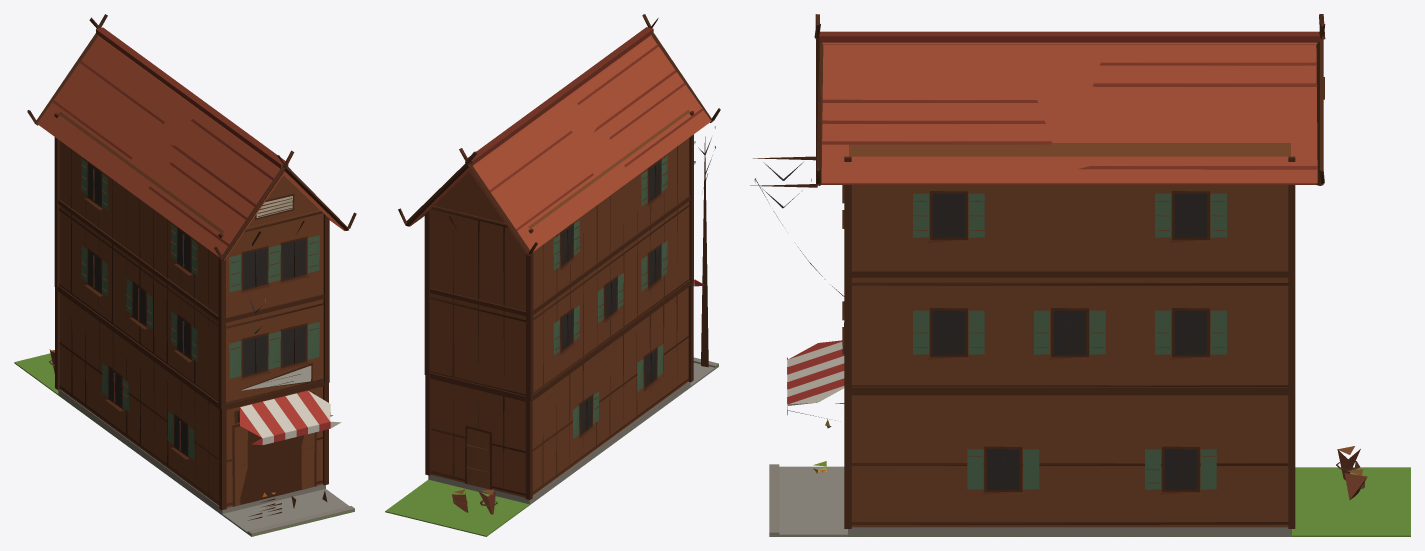
The model's file is bay2_one.glb.
3 views of the same model, side by side, from view 1: azimuth 30°, elevation 25°; view 2: azimuth 150°, elevation 25°; view 3: azimuth 270°, elevation 25° (orthographic). The views are drawn at different scales.
Visible parts, largest first — view 1: body, windows; view 2: body, windows; view 3: body, windows.
Part boxes in pixels (x1,y1,x2,y2): body: (14,14,356,536); windows: (88,164,330,454); body: (385,14,720,536); windows: (561,161,660,433); body: (750,14,1410,536); windows: (825,193,1206,489).
Size of the model in its own units: 5.53 by 13.4 by 16.4.
